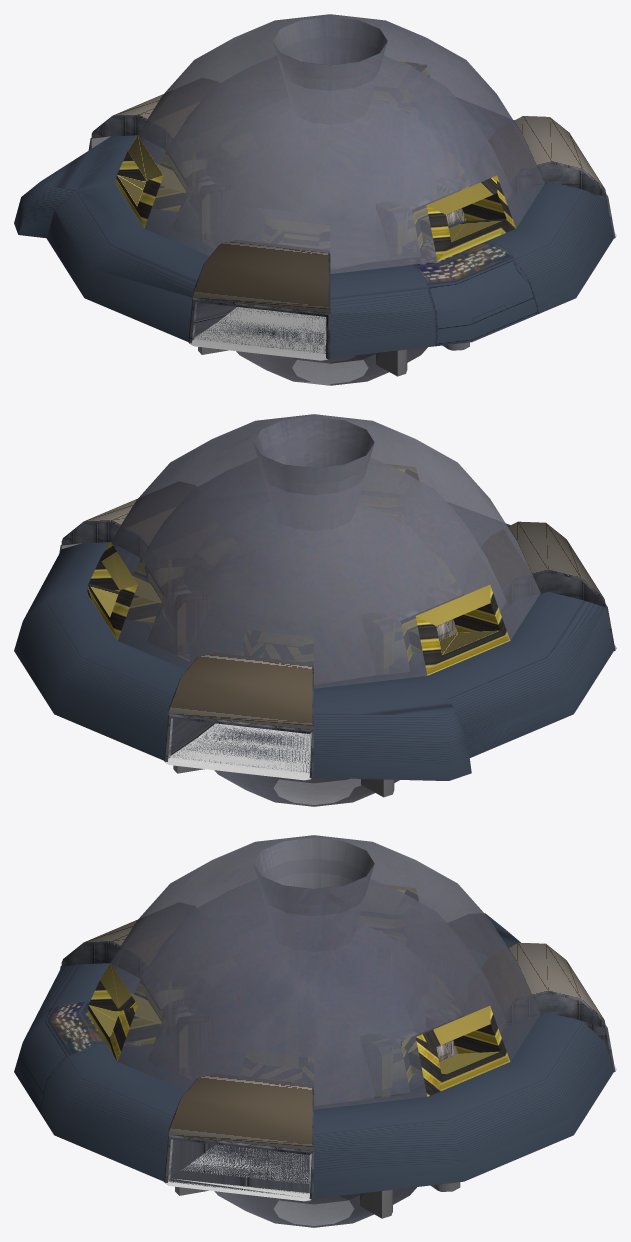
File: building1.gltf
3 views of the same model, one above another, from view 1: azimuth 30°, elevation 25°; view 2: azimuth 150°, elevation 25°; view 3: azimuth 270°, elevation 25° (orthographic). The views are drawn at different scales.
Visible parts, largest first — view 1: polymsh9, polymsh4, polymsh_detached30, polymsh, polymsh_extracted8, polymsh_extracted1, polymsh1; view 2: polymsh9, polymsh4, polymsh_extracted1, polymsh, polymsh_detached30, polymsh_extracted8, polymsh2; view 3: polymsh9, polymsh4, polymsh_extracted8, polymsh, polymsh_extracted1, polymsh_detached30, polymsh3.
Part boxes in pixels (x1=…): polymsh9: x1=115, y1=14, x2=544, y2=273; polymsh4: x1=14, y1=120, x2=613, y2=358; polymsh_detached30: x1=188, y1=240, x2=330, y2=360; polymsh: x1=215, y1=16, x2=427, y2=385; polymsh_extracted8: x1=488, y1=116, x2=616, y2=238; polymsh_extracted1: x1=88, y1=94, x2=200, y2=150; polymsh1: x1=376, y1=208, x2=469, y2=376; polymsh9: x1=87, y1=414, x2=540, y2=688; polymsh4: x1=14, y1=523, x2=613, y2=780; polymsh_extracted1: x1=164, y1=653, x2=313, y2=780; polymsh: x1=190, y1=417, x2=399, y2=806; polymsh_detached30: x1=481, y1=521, x2=616, y2=651; polymsh_extracted8: x1=59, y1=499, x2=176, y2=558; polymsh2: x1=361, y1=619, x2=457, y2=797; polymsh9: x1=87, y1=835, x2=540, y2=1109; polymsh4: x1=14, y1=913, x2=613, y2=1198; polymsh_extracted8: x1=164, y1=1074, x2=313, y2=1201; polymsh: x1=214, y1=838, x2=416, y2=1227; polymsh_extracted1: x1=481, y1=942, x2=616, y2=1072; polymsh_detached30: x1=60, y1=920, x2=176, y2=979; polymsh3: x1=360, y1=1040, x2=460, y2=1218.
Size of the model in its own units: 4.62 by 2.92 by 4.62.
Materials: 7 (6 with a texture image).
